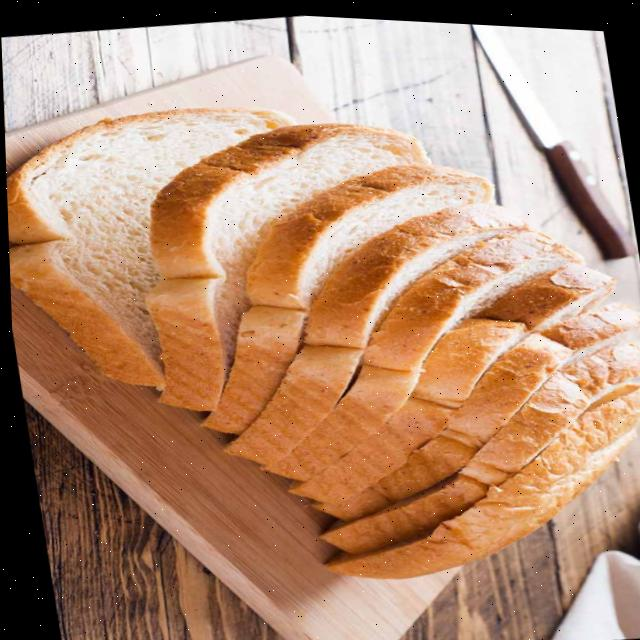Bread: (143, 119, 425, 408), (5, 105, 291, 385), (322, 378, 640, 574), (244, 160, 490, 306), (300, 199, 523, 345), (359, 225, 578, 365)
